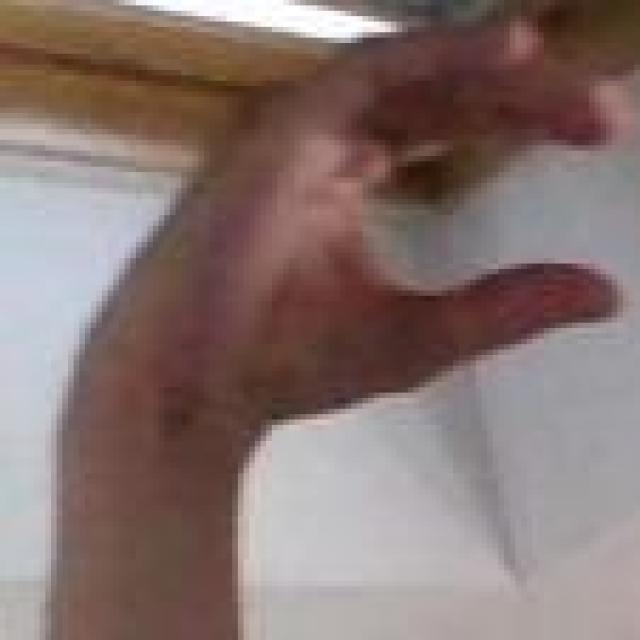C: (68, 7, 632, 468)
